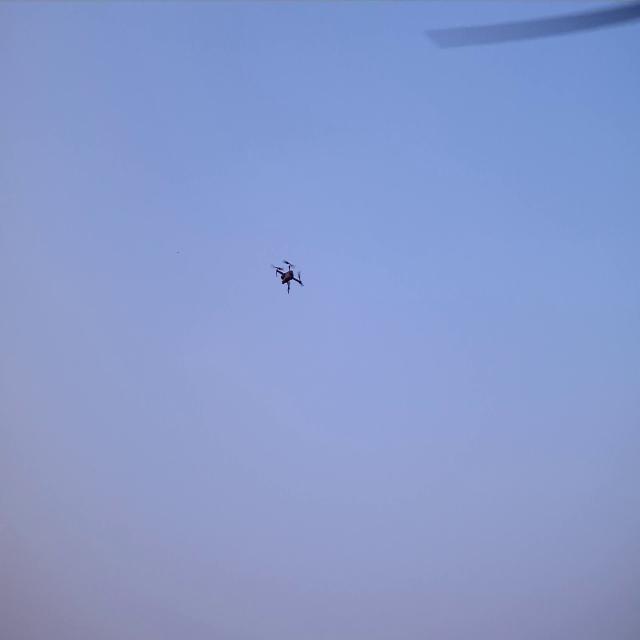UAV: (276, 262, 301, 292)
